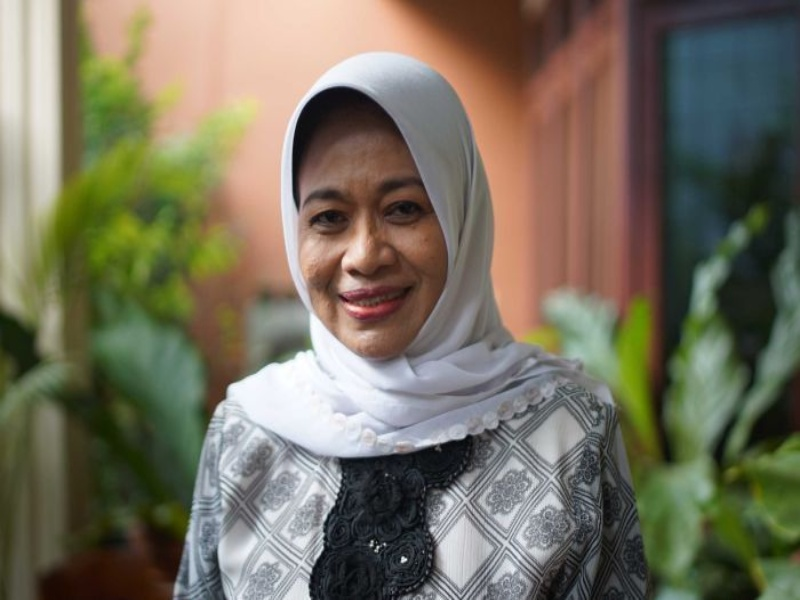face: (303, 188, 431, 327)
